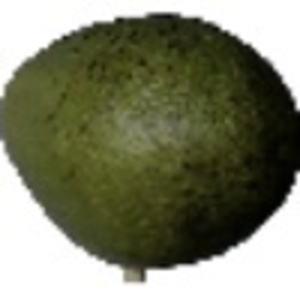abacate: (1, 8, 297, 270)
